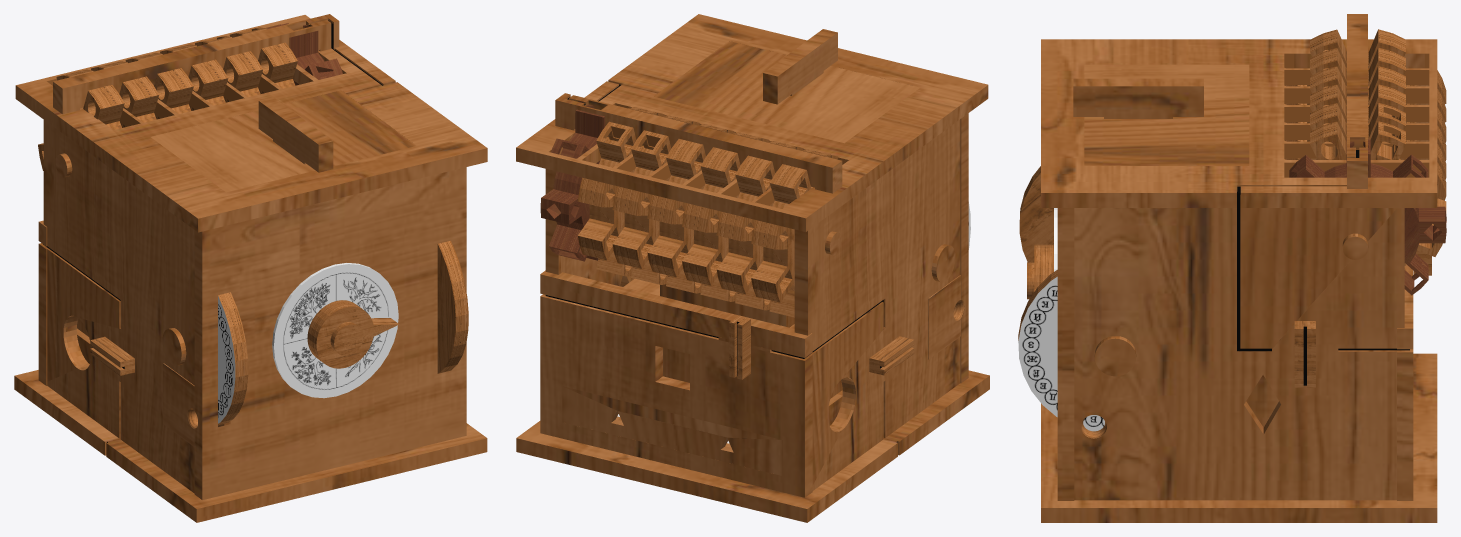
3 views of the same model, side by side, from view 1: azimuth 30°, elevation 25°; view 2: azimuth 150°, elevation 25°; view 3: azimuth 270°, elevation 25° (orthographic). The views are drawn at different scales.
Visible parts, largest first — view 1: boxlogic, open_key, rotate_int, rotate_alf, key_7_geom, key_1_geom, key_3_geom, key_6_geom, key_2_geom, key_5_geom, key_4_geom, key_1_3; view 2: boxlogic, key_7_geom, key_3_geom, key_2_geom, key_6_geom, key_5_geom, key_4_geom, key_1_geom, key_1_2, key_1_3; view 3: boxlogic, rotate_int, key_1_geom, key_2_geom, rotate_alf, key_3_geom, key_4_geom, key_6_geom, key_7_geom, key_5_geom, key_1_1, open_key.
Boxes of the visible parts, x1=… form: boxlogic: x1=14, y1=14, x2=487, y2=522; open_key: x1=307, y1=300, x2=399, y2=368; rotate_int: x1=437, y1=241, x2=468, y2=373; rotate_alf: x1=218, y1=292, x2=248, y2=425; key_7_geom: x1=38, y1=69, x2=124, y2=170; key_1_geom: x1=266, y1=23, x2=342, y2=85; key_3_geom: x1=195, y1=36, x2=262, y2=102; key_6_geom: x1=91, y1=61, x2=158, y2=127; key_2_geom: x1=229, y1=27, x2=297, y2=93; key_5_geom: x1=125, y1=52, x2=193, y2=119; key_4_geom: x1=160, y1=44, x2=228, y2=110; key_1_3: x1=90, y1=336, x2=134, y2=375; boxlogic: x1=516, y1=14, x2=989, y2=522; key_7_geom: x1=751, y1=149, x2=837, y2=317; key_3_geom: x1=612, y1=115, x2=699, y2=284; key_2_geom: x1=577, y1=107, x2=664, y2=276; key_6_geom: x1=716, y1=141, x2=803, y2=310; key_5_geom: x1=682, y1=132, x2=768, y2=301; key_4_geom: x1=647, y1=124, x2=734, y2=293; key_1_geom: x1=540, y1=104, x2=604, y2=261; key_1_2: x1=729, y1=316, x2=750, y2=379; key_1_3: x1=869, y1=336, x2=914, y2=375; boxlogic: x1=1041, y1=14, x2=1437, y2=522; rotate_int: x1=1018, y1=270, x2=1104, y2=431; key_1_geom: x1=1289, y1=139, x2=1446, y2=295; key_2_geom: x1=1284, y1=121, x2=1446, y2=270; rotate_alf: x1=1019, y1=166, x2=1053, y2=262; key_3_geom: x1=1284, y1=102, x2=1446, y2=265; key_4_geom: x1=1284, y1=84, x2=1446, y2=200; key_6_geom: x1=1284, y1=47, x2=1446, y2=160; key_7_geom: x1=1284, y1=29, x2=1446, y2=142; key_5_geom: x1=1284, y1=66, x2=1446, y2=179; key_1_1: x1=1294, y1=321, x2=1315, y2=387; open_key: x1=1027, y1=244, x2=1053, y2=299.
Size of the model in its own units: 0.6393 by 0.6979 by 0.7464.
Materials: 23 (21 with a texture image).
